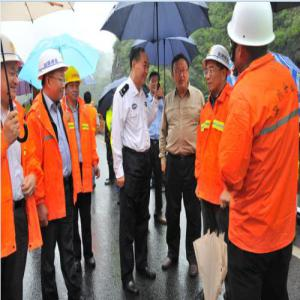none: (130, 47, 151, 88), (172, 55, 191, 90), (150, 71, 161, 94), (84, 91, 93, 106)
white: (229, 3, 275, 71), (40, 49, 66, 102), (205, 45, 232, 95), (2, 35, 20, 103)
yellow: (63, 66, 82, 102)
